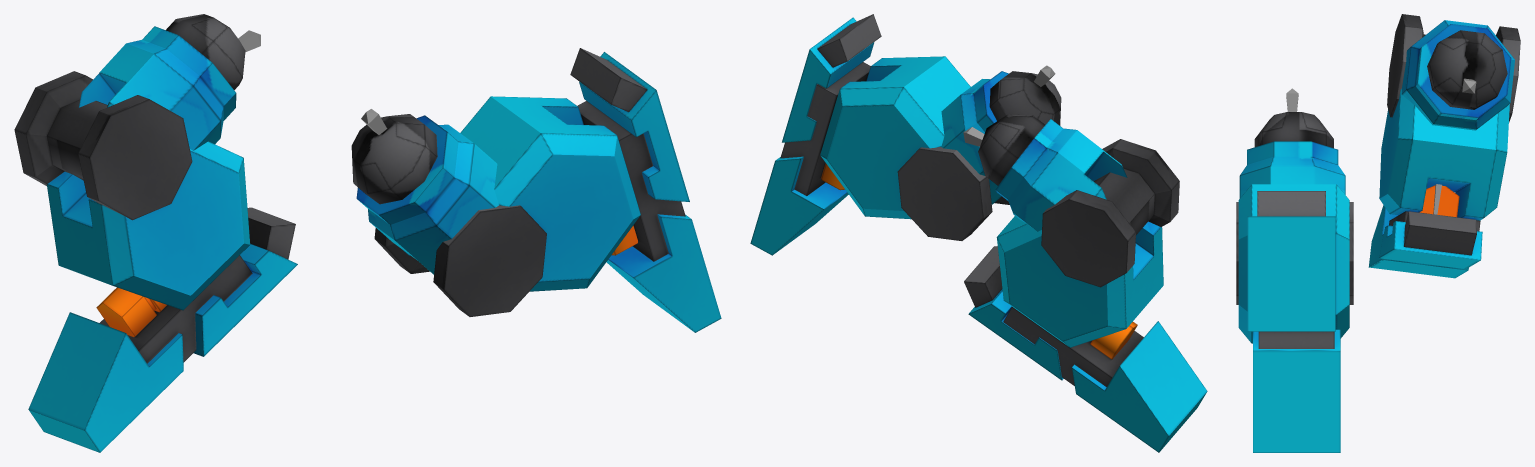
The model's file is Bottom_Running33.obj.
The picture shows the model from 3 angles, left to right: view 1: azimuth 30°, elevation 25°; view 2: azimuth 150°, elevation 25°; view 3: azimuth 270°, elevation 25°; orthographic projection. The views are drawn at different scales.
Parts seen in each view (by area): view 1: Object010, Object013, Object011, Object014, Object012, Object009; view 2: Object010, Object013, Object011, Object014, Object009, Object012; view 3: Object014, Object010, Object009, Object011, Object012, Object013.
Part boxes in pixels (x1,y1,x2,y2): Object010: [14, 71, 250, 310]; Object013: [374, 96, 640, 316]; Object011: [28, 207, 297, 452]; Object014: [570, 48, 721, 332]; Object012: [351, 114, 498, 274]; Object009: [79, 14, 245, 150]; Object010: [996, 139, 1179, 347]; Object013: [820, 56, 1009, 240]; Object011: [964, 246, 1207, 452]; Object014: [750, 14, 881, 255]; Object009: [978, 114, 1127, 231]; Object012: [941, 71, 1061, 204]; Object014: [1247, 191, 1340, 452]; Object010: [1379, 14, 1520, 220]; Object009: [1401, 20, 1514, 130]; Object011: [1368, 185, 1482, 278]; Object012: [1239, 112, 1345, 198]; Object013: [1236, 184, 1353, 343].
Size of the model in its own units: 179 by 110 by 91.4.
